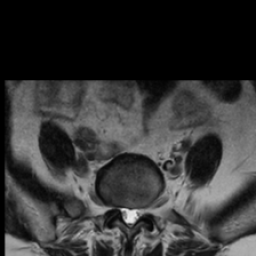CCS_normal: (127, 199, 134, 236)
LFS_normal: (142, 196, 151, 223)
LLS_normal: (134, 199, 142, 228)
RFS_severe_stenosis: (111, 195, 119, 220)
RLS_normal: (119, 200, 127, 227)
